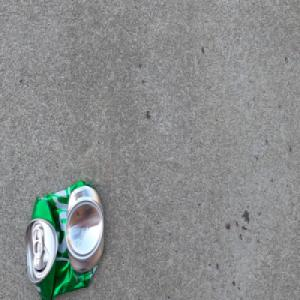SodaCan: (25, 179, 105, 300)
